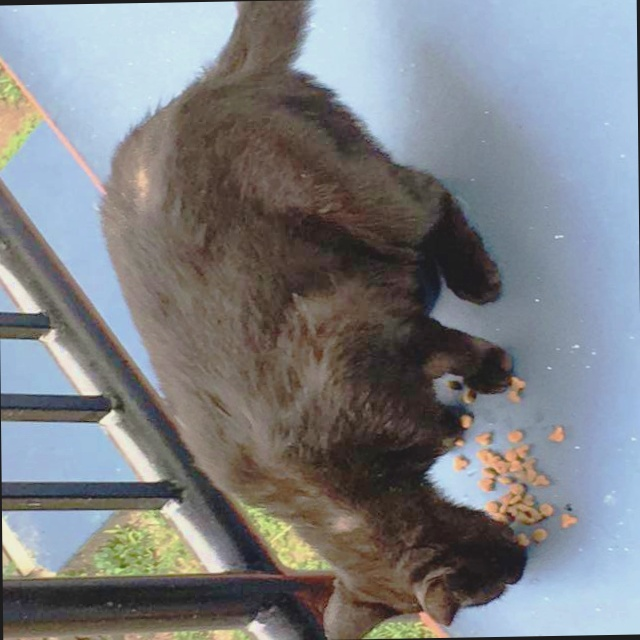hairloss: (126, 157, 154, 210), (325, 518, 357, 531)
